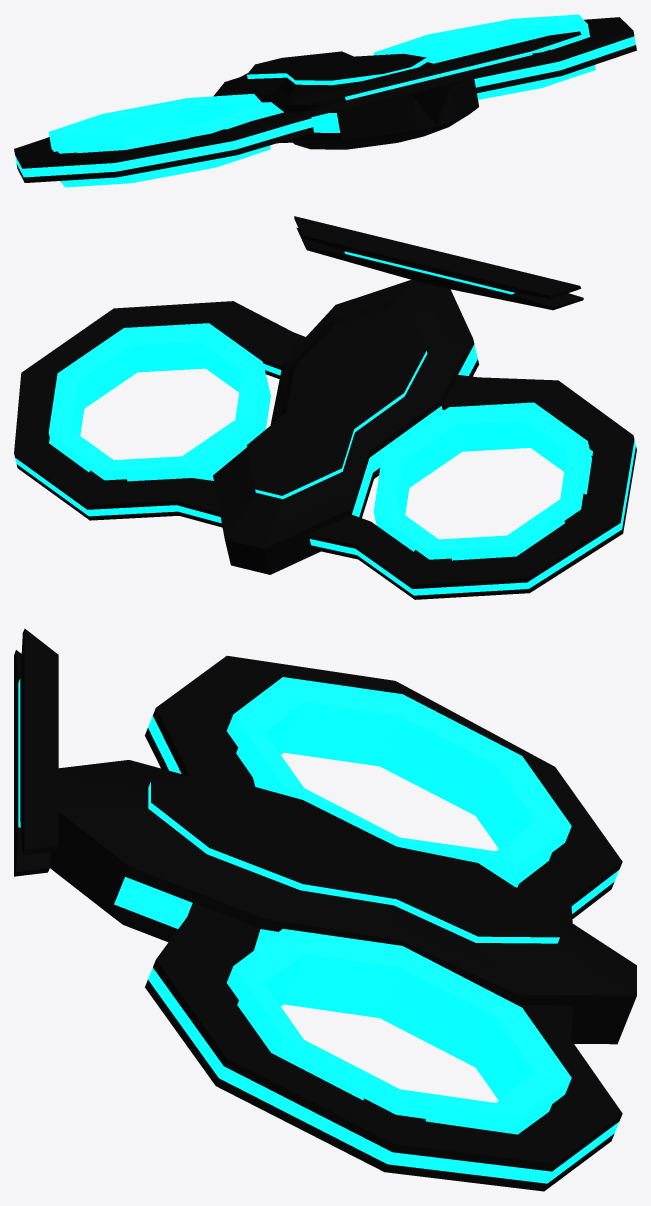
The model's file is dron.fbx.
The picture shows the model from 3 angles, top to bottom: view 1: azimuth 30°, elevation 25°; view 2: azimuth 150°, elevation 25°; view 3: azimuth 270°, elevation 25°; orthographic projection. The views are drawn at different scales.
Visible parts, largest first — view 1: Cylinder.003_Cylinder.015; view 2: Cylinder.003_Cylinder.015; view 3: Cylinder.003_Cylinder.015.
Part boxes in pixels (x1=…): Cylinder.003_Cylinder.015: x1=14, y1=14, x2=636, y2=187; Cylinder.003_Cylinder.015: x1=14, y1=216, x2=636, y2=599; Cylinder.003_Cylinder.015: x1=14, y1=628, x2=636, y2=1191.
Bounding box in the file's own units: 181 × 52.81 × 103.
